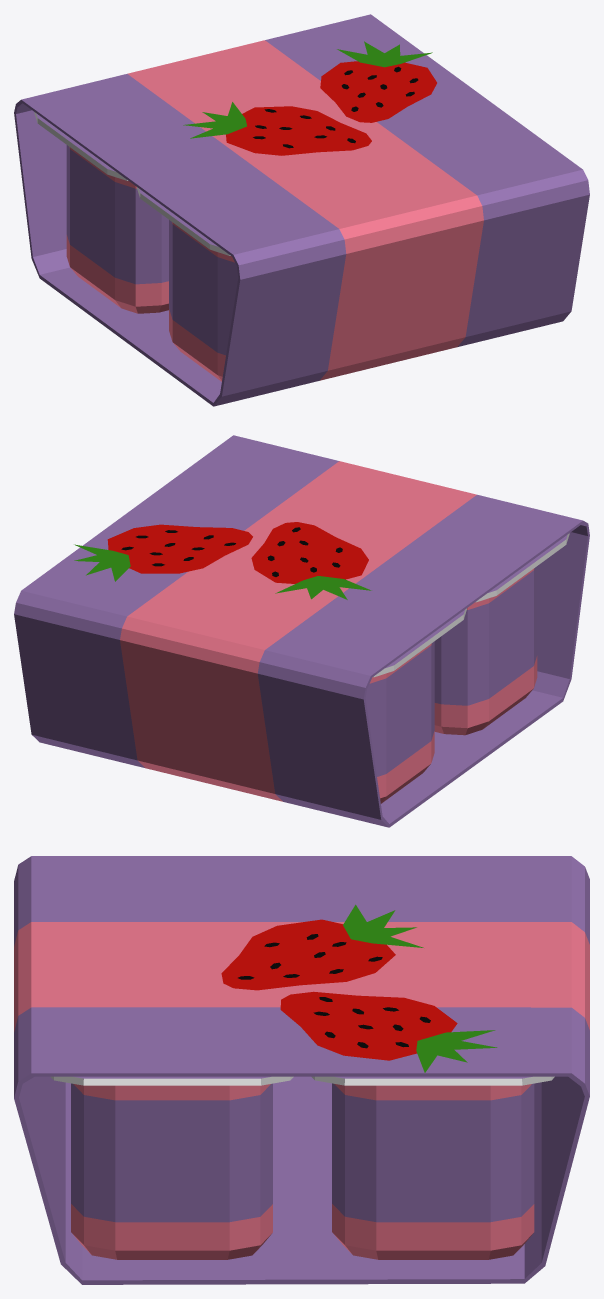
The model's file is Ma_Yogurt_1.fbx.
The picture shows the model from 3 angles, top to bottom: view 1: azimuth 30°, elevation 25°; view 2: azimuth 150°, elevation 25°; view 3: azimuth 270°, elevation 25°; orthographic projection. The views are drawn at different scales.
Visible parts, largest first — view 1: Ma_Yogurt_1; view 2: Ma_Yogurt_1; view 3: Ma_Yogurt_1.
Part boxes in pixels (box(x1,y1,x2,y2)): Ma_Yogurt_1: box(14, 14, 589, 406); Ma_Yogurt_1: box(14, 435, 589, 827); Ma_Yogurt_1: box(14, 856, 589, 1284).
Size of the model in its own units: 122 by 133 by 54.86.
